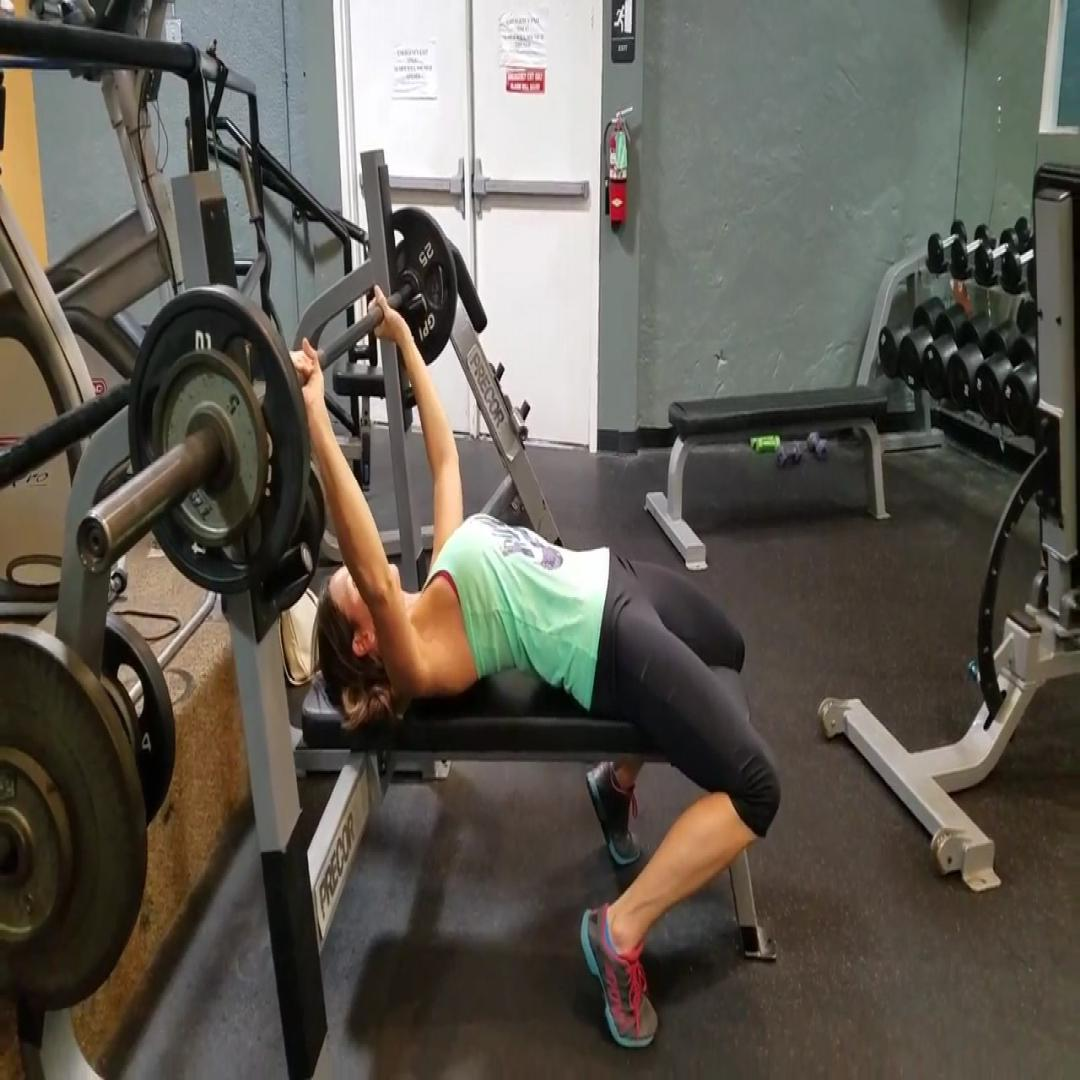Bar: (74, 510, 116, 579)
Barbell: (128, 288, 305, 596)
